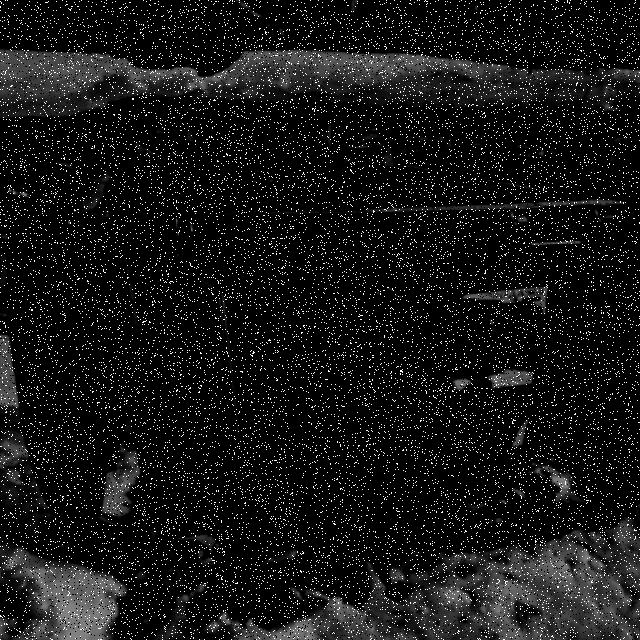Trashcan: (4, 101, 626, 614)
